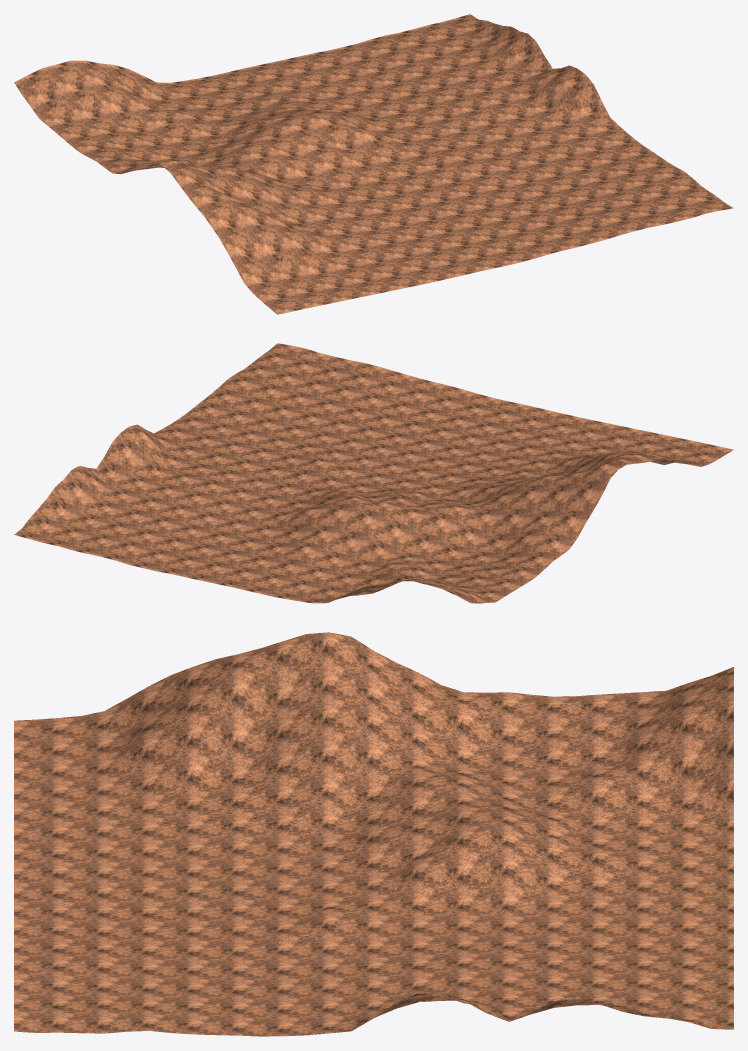
The model's file is terrain_01_06.dae.
3 renders of one model, top to bottom at view 1: azimuth 30°, elevation 25°; view 2: azimuth 150°, elevation 25°; view 3: azimuth 270°, elevation 25°, orthographic. The views are drawn at different scales.
Visible parts, largest first — view 1: terrain_01_06-node; view 2: terrain_01_06-node; view 3: terrain_01_06-node.
Part boxes in pixels (left/top/right/bottom): terrain_01_06-node: left=14, top=14, right=733, bottom=314; terrain_01_06-node: left=14, top=343, right=733, bottom=603; terrain_01_06-node: left=14, top=632, right=733, bottom=1036.
Size of the model in its own units: 128 by 128 by 19.93.
1 material, 1 textured.
